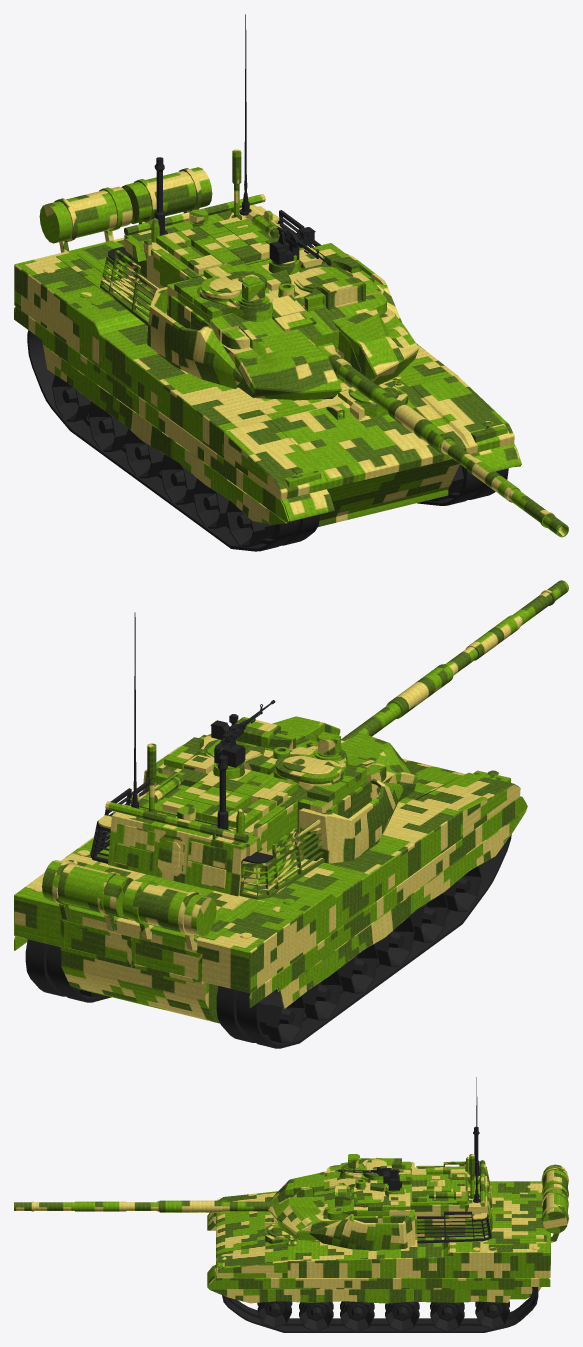
File: SM_Tank_01.fbx
3 views of the same model, one above another, from view 1: azimuth 30°, elevation 25°; view 2: azimuth 150°, elevation 25°; view 3: azimuth 270°, elevation 25° (orthographic). The views are drawn at different scales.
Visible parts, largest first — view 1: Tank1, tank2, tank1; view 2: Tank1, tank2, tank1; view 3: Tank1, tank2, tank1.
Part boxes in pixels (<box>): Tank1: <box>14,167,521,551</box>; tank2: <box>100,14,418,400</box>; tank1: <box>317,343,568,537</box>; Tank1: <box>14,758,527,1048</box>; tank2: <box>90,612,417,899</box>; tank1: <box>341,580,568,742</box>; Tank1: <box>207,1164,568,1332</box>; tank2: <box>268,1077,492,1250</box>; tank1: <box>14,1200,280,1212</box>.
Size of the model in its own units: 335 by 509 by 1078.
1 material, 1 textured.
